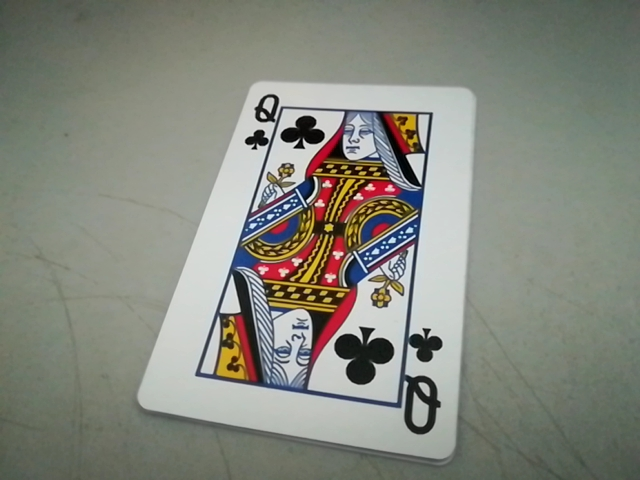mh j: (401, 323, 455, 438), (235, 90, 284, 150)
